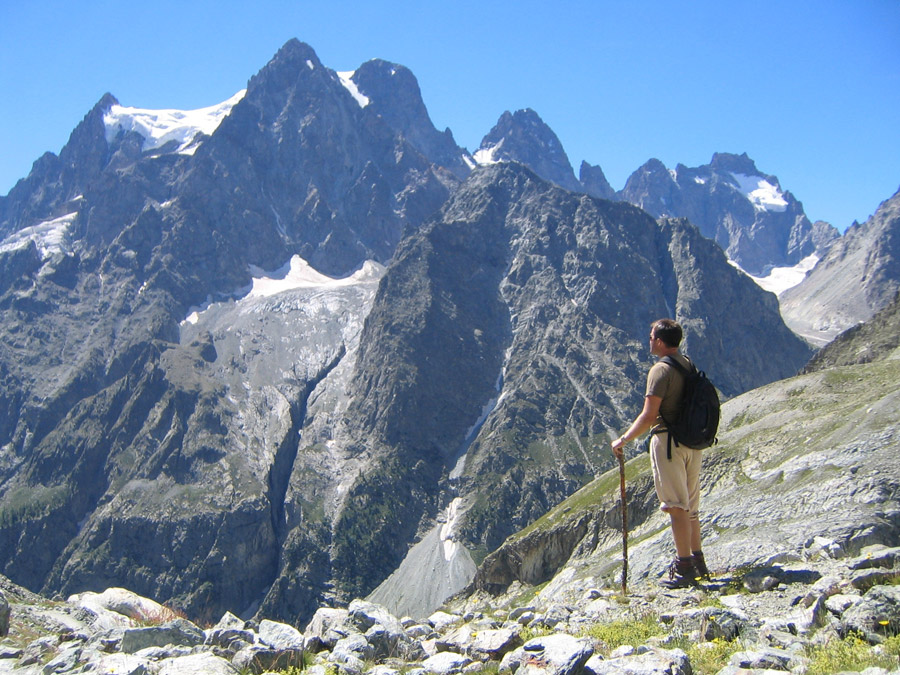male: (610, 318, 718, 593)
